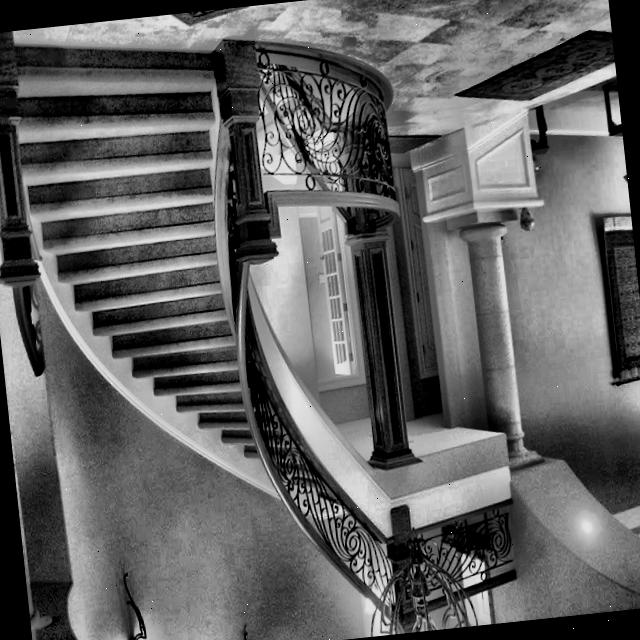staircase: (4, 24, 245, 440)
